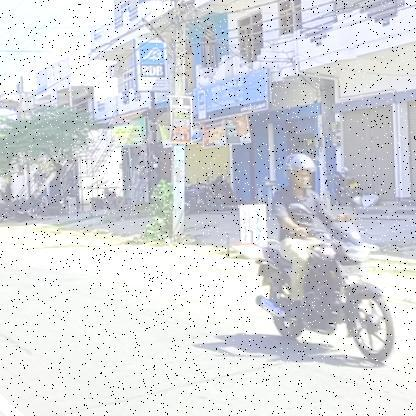motorcycle: (253, 220, 398, 369)
